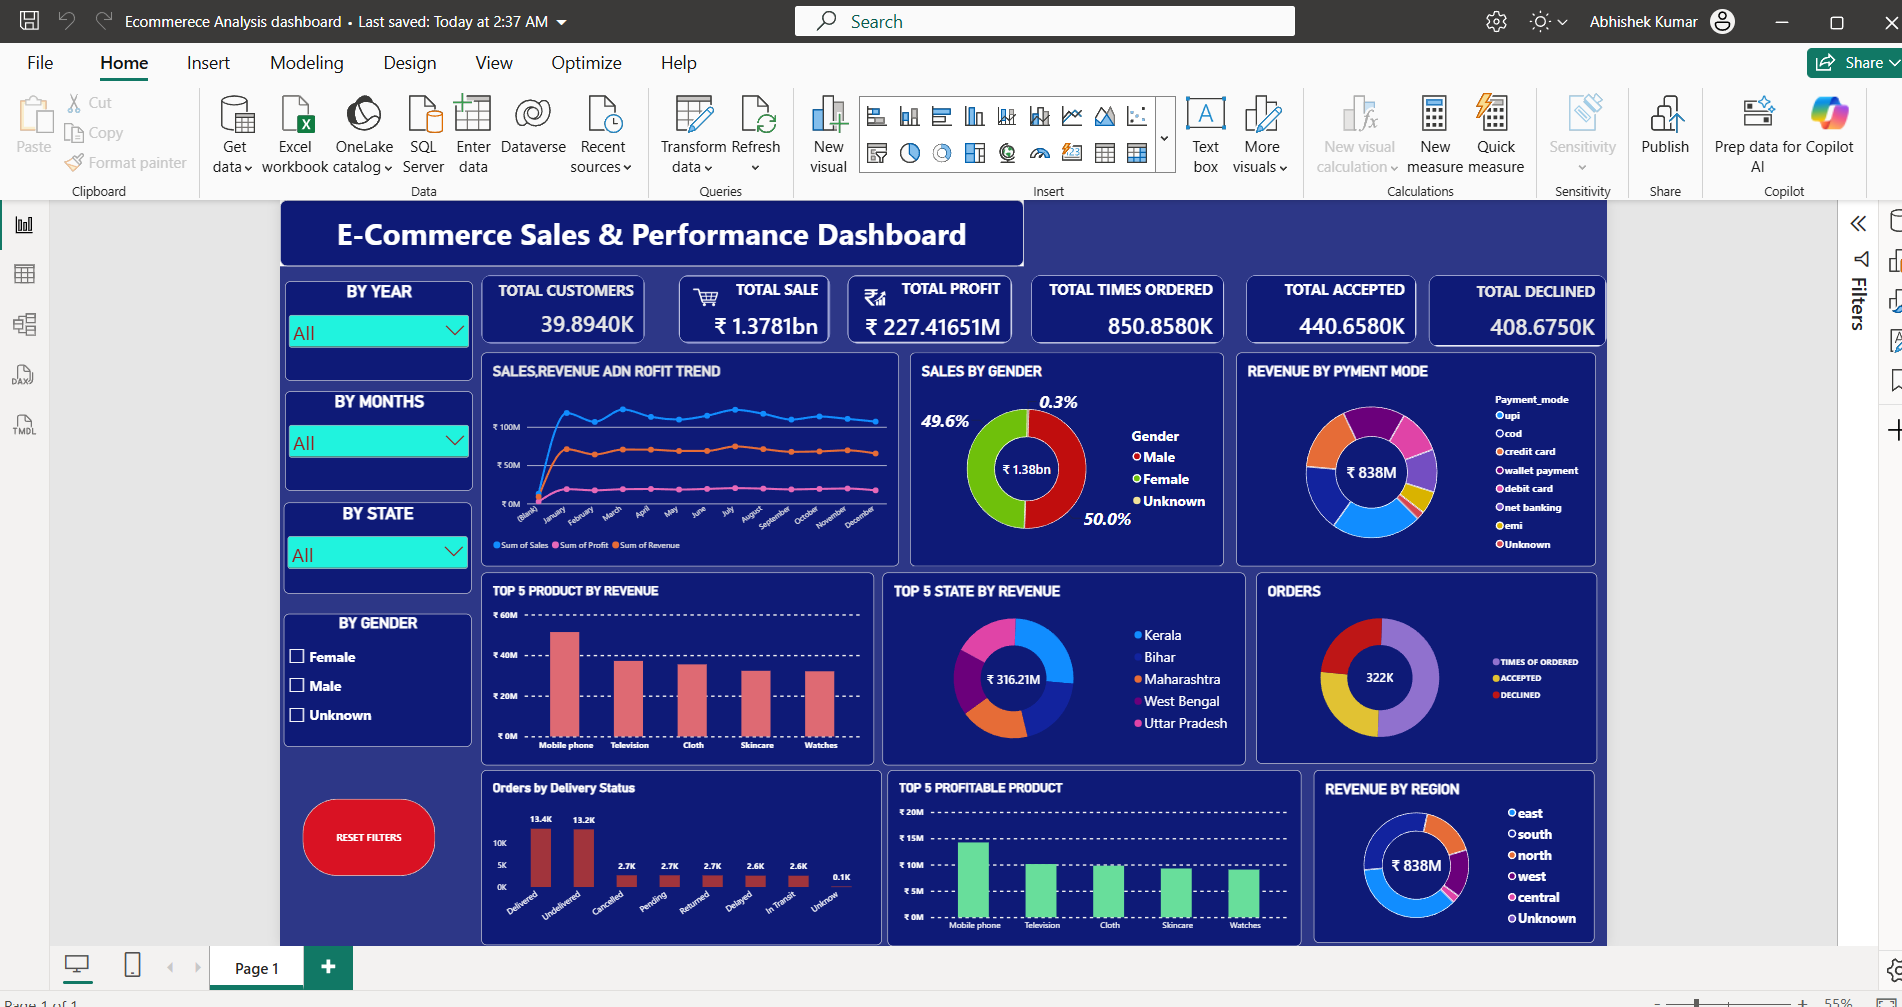

The page's visual inventory and layout, read from the dashboard file:
{"tool":"powerbi","page":{"name":"Page 1","canvas":[1920,1080],"ordinal":0},"visuals":[{"type":"cardVisual","fields":{"Data":["Sum(public ecommerce_data.Sales)"]},"box":[577.3,108.6,219,99.5],"z":0},{"type":"image","box":[593.6,101.3,45.2,77.8],"z":1000},{"type":"cardVisual","fields":{"Data":["Sum(public ecommerce_data.Profit)"]},"box":[822.4,108.2,238.1,99.6],"z":2000},{"type":"image","box":[838.3,106.8,45.4,69.4],"z":3000},{"type":"cardVisual","fields":{"Data":["Sum(public ecommerce_data.Number_of_times_ordered)"]},"box":[1087.6,108.6,279.2,99.6],"z":4000},{"type":"cardVisual","fields":{"Data":["Sum(public ecommerce_data.Number_of_times_orders_accepted)"]},"box":[1398.9,108.6,246.7,99.6],"z":5000},{"type":"shape","box":[0,0,1076.7,95.9],"z":5001},{"type":"cardVisual","fields":{"Data":["Sum(public ecommerce_data.Number_of_times_orders_declined)"]},"box":[1663.1,108.6,257.5,103.9],"z":5002},{"type":"cardVisual","fields":{"Data":["CountNonNull(public ecommerce_data.Customer_id)"]},"box":[291.4,108.6,237.1,99.5],"z":5003},{"type":"lineChart","title":"SALES,REVENUE ADN ROFIT TREND","fields":{"Category":["public ecommerce_data.Order_date.Variation.Date Hierarchy.Month"],"Y":["Sum(public ecommerce_data.Sales)","Sum(public ecommerce_data.Profit)","Sum(public ecommerce_data.Revenue)"]},"box":[291.4,220.8,604.4,309.5],"z":5004},{"type":"donutChart","title":"REVENUE BY PYMENT MODE","fields":{"Category":["public ecommerce_data.Payment_mode"],"Y":["Sum(public ecommerce_data.Revenue)"]},"box":[1384.4,220.8,521.2,309.5],"z":5005},{"type":"donutChart","title":"SALES BY GENDER","fields":{"Category":["public ecommerce_data.Gender"],"Y":["Sum(public ecommerce_data.Sales)"]},"box":[912.1,220.8,454,309.5],"z":5006},{"type":"columnChart","title":"TOP 5 PRODUCT BY REVENUE","fields":{"Category":["public ecommerce_data.Product_subcategory"],"Y":["Sum(public ecommerce_data.Revenue)"]},"box":[292.2,538.9,569.2,279.2],"z":5007},{"type":"donutChart","title":"TOP 5 STATE BY  REVENUE","fields":{"Category":["public ecommerce_data.Delivery_state"],"Y":["Sum(public ecommerce_data.Revenue)"]},"box":[872.1,538.9,525.9,279.2],"z":5008},{"type":"donutChart","title":"ORDERS ","fields":{"Y":["Sum(public ecommerce_data.Number_of_times_ordered)","Sum(public ecommerce_data.Number_of_times_orders_accepted)","Sum(public ecommerce_data.Number_of_times_orders_declined)"]},"box":[1413.2,538.9,493.4,277],"z":5009},{"type":"clusteredColumnChart","title":"Orders by Delivery Status","fields":{"Category":["public ecommerce_data.Delivery_status"],"Y":["CountNonNull(public ecommerce_data.Delivery_status)"]},"box":[292.2,824.5,580,253.2],"z":5010},{"type":"columnChart","title":"TOP 5  PROFITABLE PRODUCT","fields":{"Category":["public ecommerce_data.Product_subcategory"],"Y":["Sum(public ecommerce_data.Profit)"]},"box":[880.4,825,599,255],"z":5011},{"type":"donutChart","title":"REVENUE  BY REGION","fields":{"Category":["public ecommerce_data.Delivery_region"],"Y":["Sum(public ecommerce_data.Revenue)"]},"box":[1496.2,825.1,406.5,250.2],"z":5012},{"type":"slicer","title":"BY YEAR","fields":{"Values":["public ecommerce_data.Order_date.Variation.Date Hierarchy.Year"]},"box":[7.2,117.9,271.8,144.3],"z":5013},{"type":"slicer","title":"BY GENDER","fields":{"Values":["public ecommerce_data.Gender"]},"box":[5.4,599,271.8,192.4],"z":5014},{"type":"slicer","title":"BY MONTHS","fields":{"Values":["public ecommerce_data.Order_date.Variation.Date Hierarchy.Month"]},"box":[7.2,276.6,271.8,144.3],"z":5015},{"type":"slicer","title":"BY STATE","fields":{"Values":["public ecommerce_data.Delivery_state"]},"box":[4.8,437.8,271.8,132.3],"z":5016},{"type":"actionButton","box":[33.3,866.8,192.2,111.8],"z":5017}]}

Visuals, with their boxes on the page's 1920x1080 design canvas (x1, y1, x2, y2). These are canvas units, not pixel positions in the 1902x1007 screenshot, which may show the page scaled, cropped or inside an application window:
cardVisual - Sum(public ecommerce_data.Sales): bbox=(577, 109, 796, 208)
image: bbox=(594, 101, 639, 179)
cardVisual - Sum(public ecommerce_data.Profit): bbox=(822, 108, 1060, 208)
image: bbox=(838, 107, 884, 176)
cardVisual - Sum(public ecommerce_data.Number_of_times_ordered): bbox=(1088, 109, 1367, 208)
cardVisual - Sum(public ecommerce_data.Number_of_times_orders_accepted): bbox=(1399, 109, 1646, 208)
shape: bbox=(0, 0, 1077, 96)
cardVisual - Sum(public ecommerce_data.Number_of_times_orders_declined): bbox=(1663, 109, 1921, 212)
cardVisual - CountNonNull(public ecommerce_data.Customer_id): bbox=(291, 109, 528, 208)
"SALES,REVENUE ADN ROFIT TREND" lineChart: bbox=(291, 221, 896, 530)
"REVENUE BY PYMENT MODE" donutChart: bbox=(1384, 221, 1906, 530)
"SALES BY GENDER" donutChart: bbox=(912, 221, 1366, 530)
"TOP 5 PRODUCT BY REVENUE" columnChart: bbox=(292, 539, 861, 818)
"TOP 5 STATE BY  REVENUE" donutChart: bbox=(872, 539, 1398, 818)
"ORDERS " donutChart: bbox=(1413, 539, 1907, 816)
"Orders by Delivery Status" clusteredColumnChart: bbox=(292, 824, 872, 1078)
"TOP 5  PROFITABLE PRODUCT" columnChart: bbox=(880, 825, 1479, 1080)
"REVENUE  BY REGION" donutChart: bbox=(1496, 825, 1903, 1075)
"BY YEAR" slicer: bbox=(7, 118, 279, 262)
"BY GENDER" slicer: bbox=(5, 599, 277, 791)
"BY MONTHS" slicer: bbox=(7, 277, 279, 421)
"BY STATE" slicer: bbox=(5, 438, 277, 570)
actionButton: bbox=(33, 867, 226, 979)
